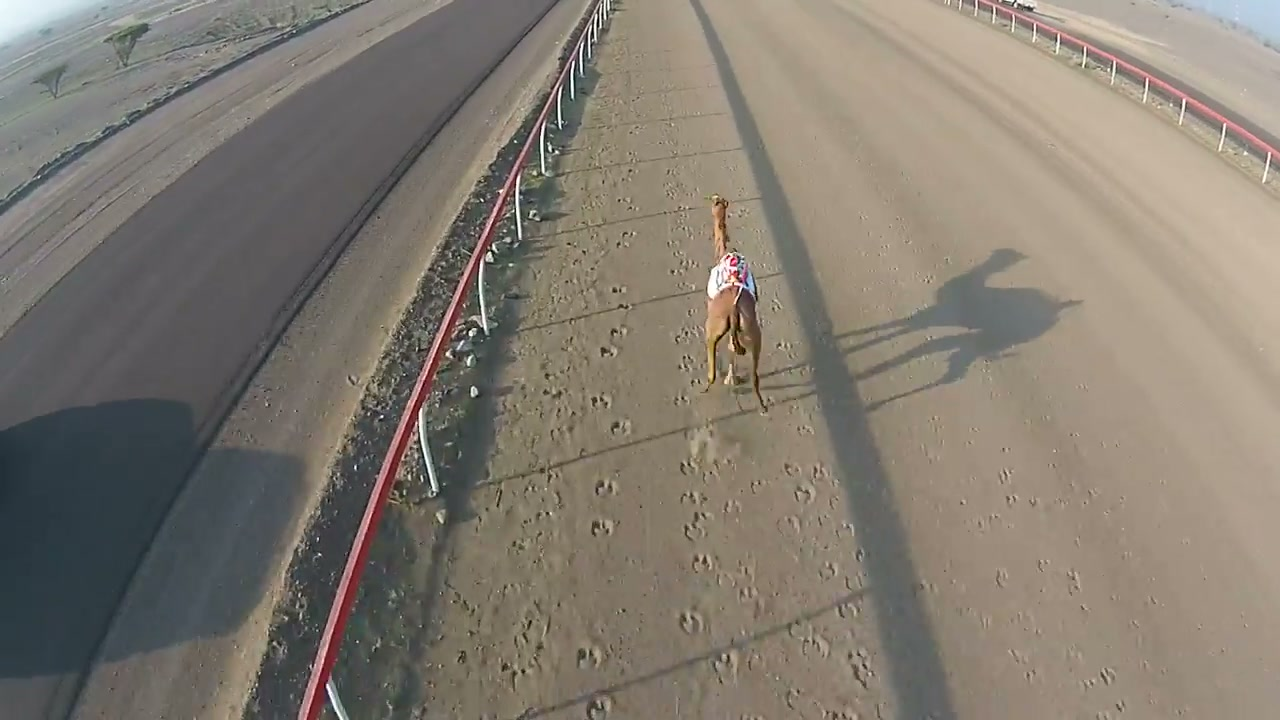animal_footprint: (562, 189, 657, 708), (654, 242, 742, 651)
